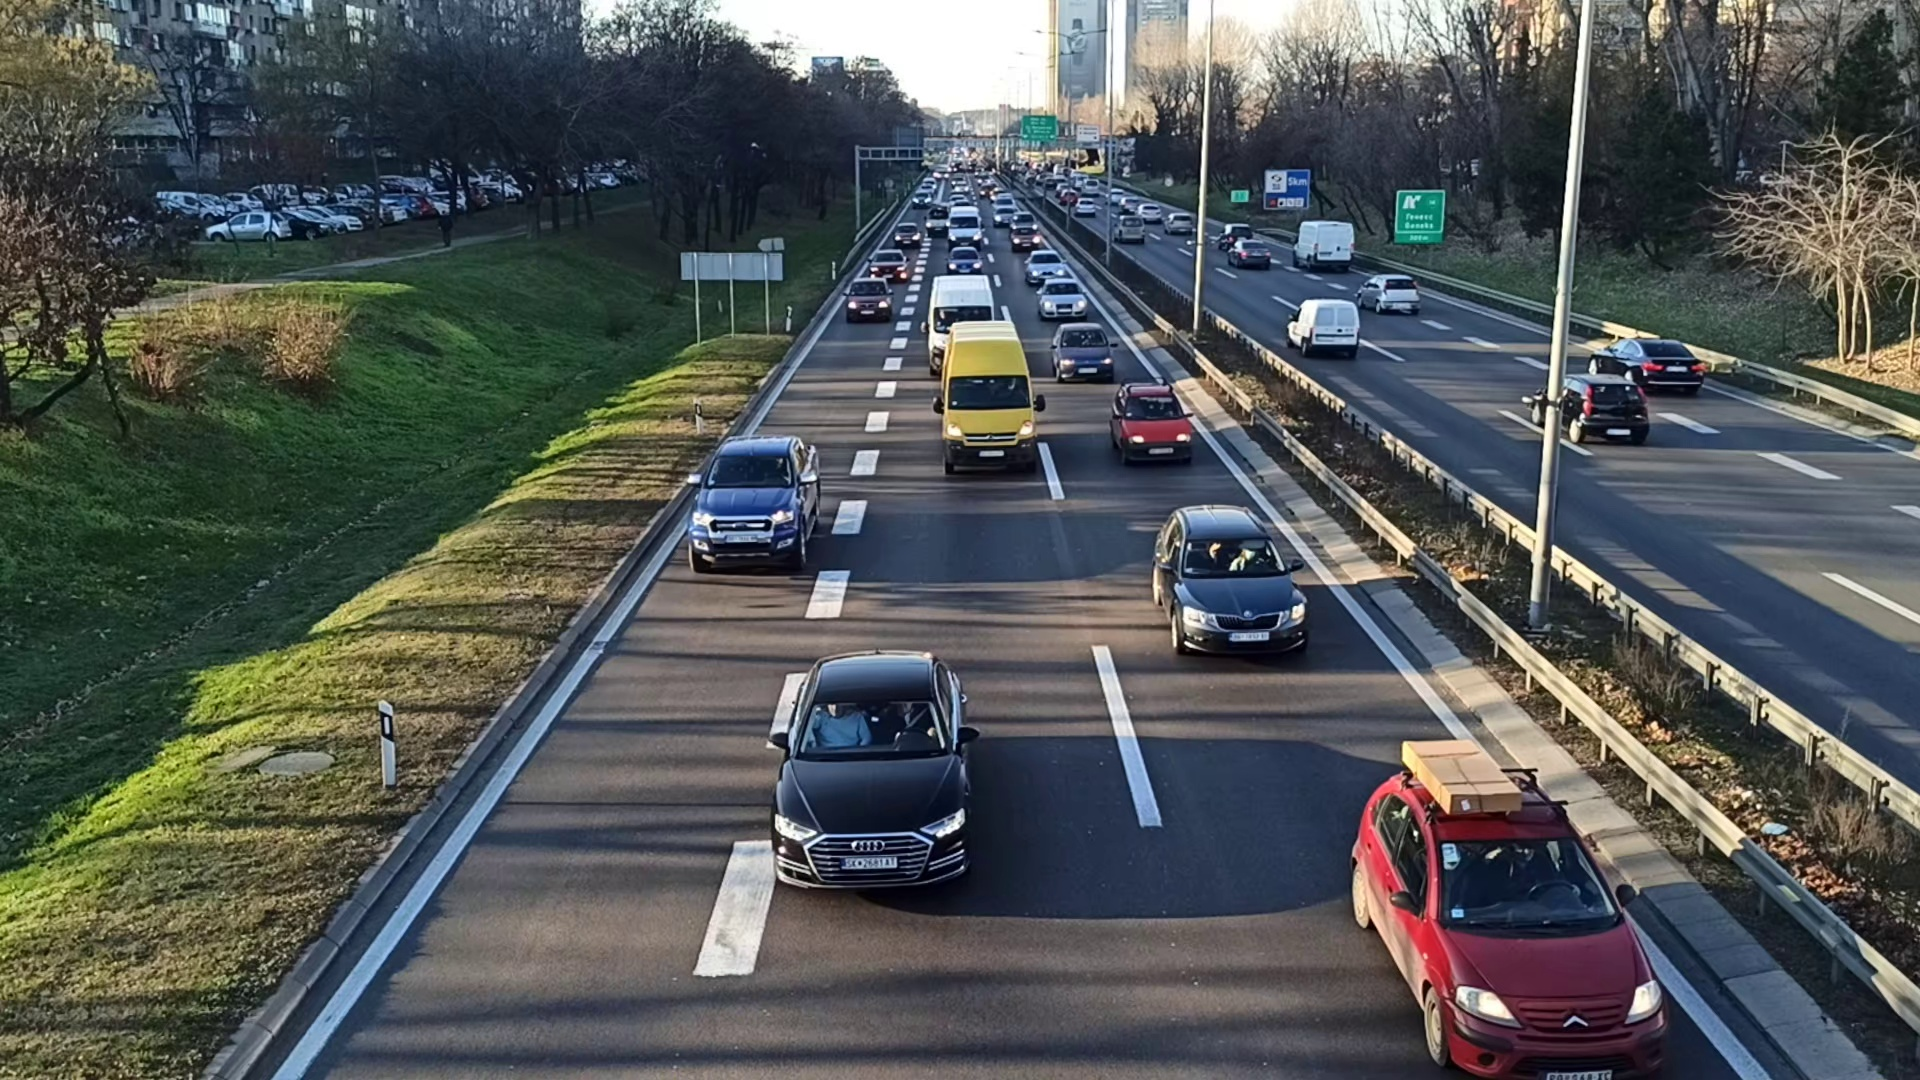car: (1345, 738, 1669, 1080), (773, 650, 972, 895), (1151, 504, 1308, 665), (687, 434, 822, 570), (1534, 371, 1644, 448), (1585, 328, 1704, 394), (1114, 385, 1189, 462), (1052, 326, 1112, 381), (1356, 273, 1416, 316), (1036, 278, 1085, 323), (845, 280, 891, 324), (1022, 251, 1065, 287), (870, 247, 909, 284), (948, 251, 980, 274), (894, 222, 920, 245)
truck: (948, 204, 980, 247)
van: (940, 322, 1033, 465), (930, 276, 996, 369), (1283, 291, 1356, 356), (1292, 218, 1356, 270)
